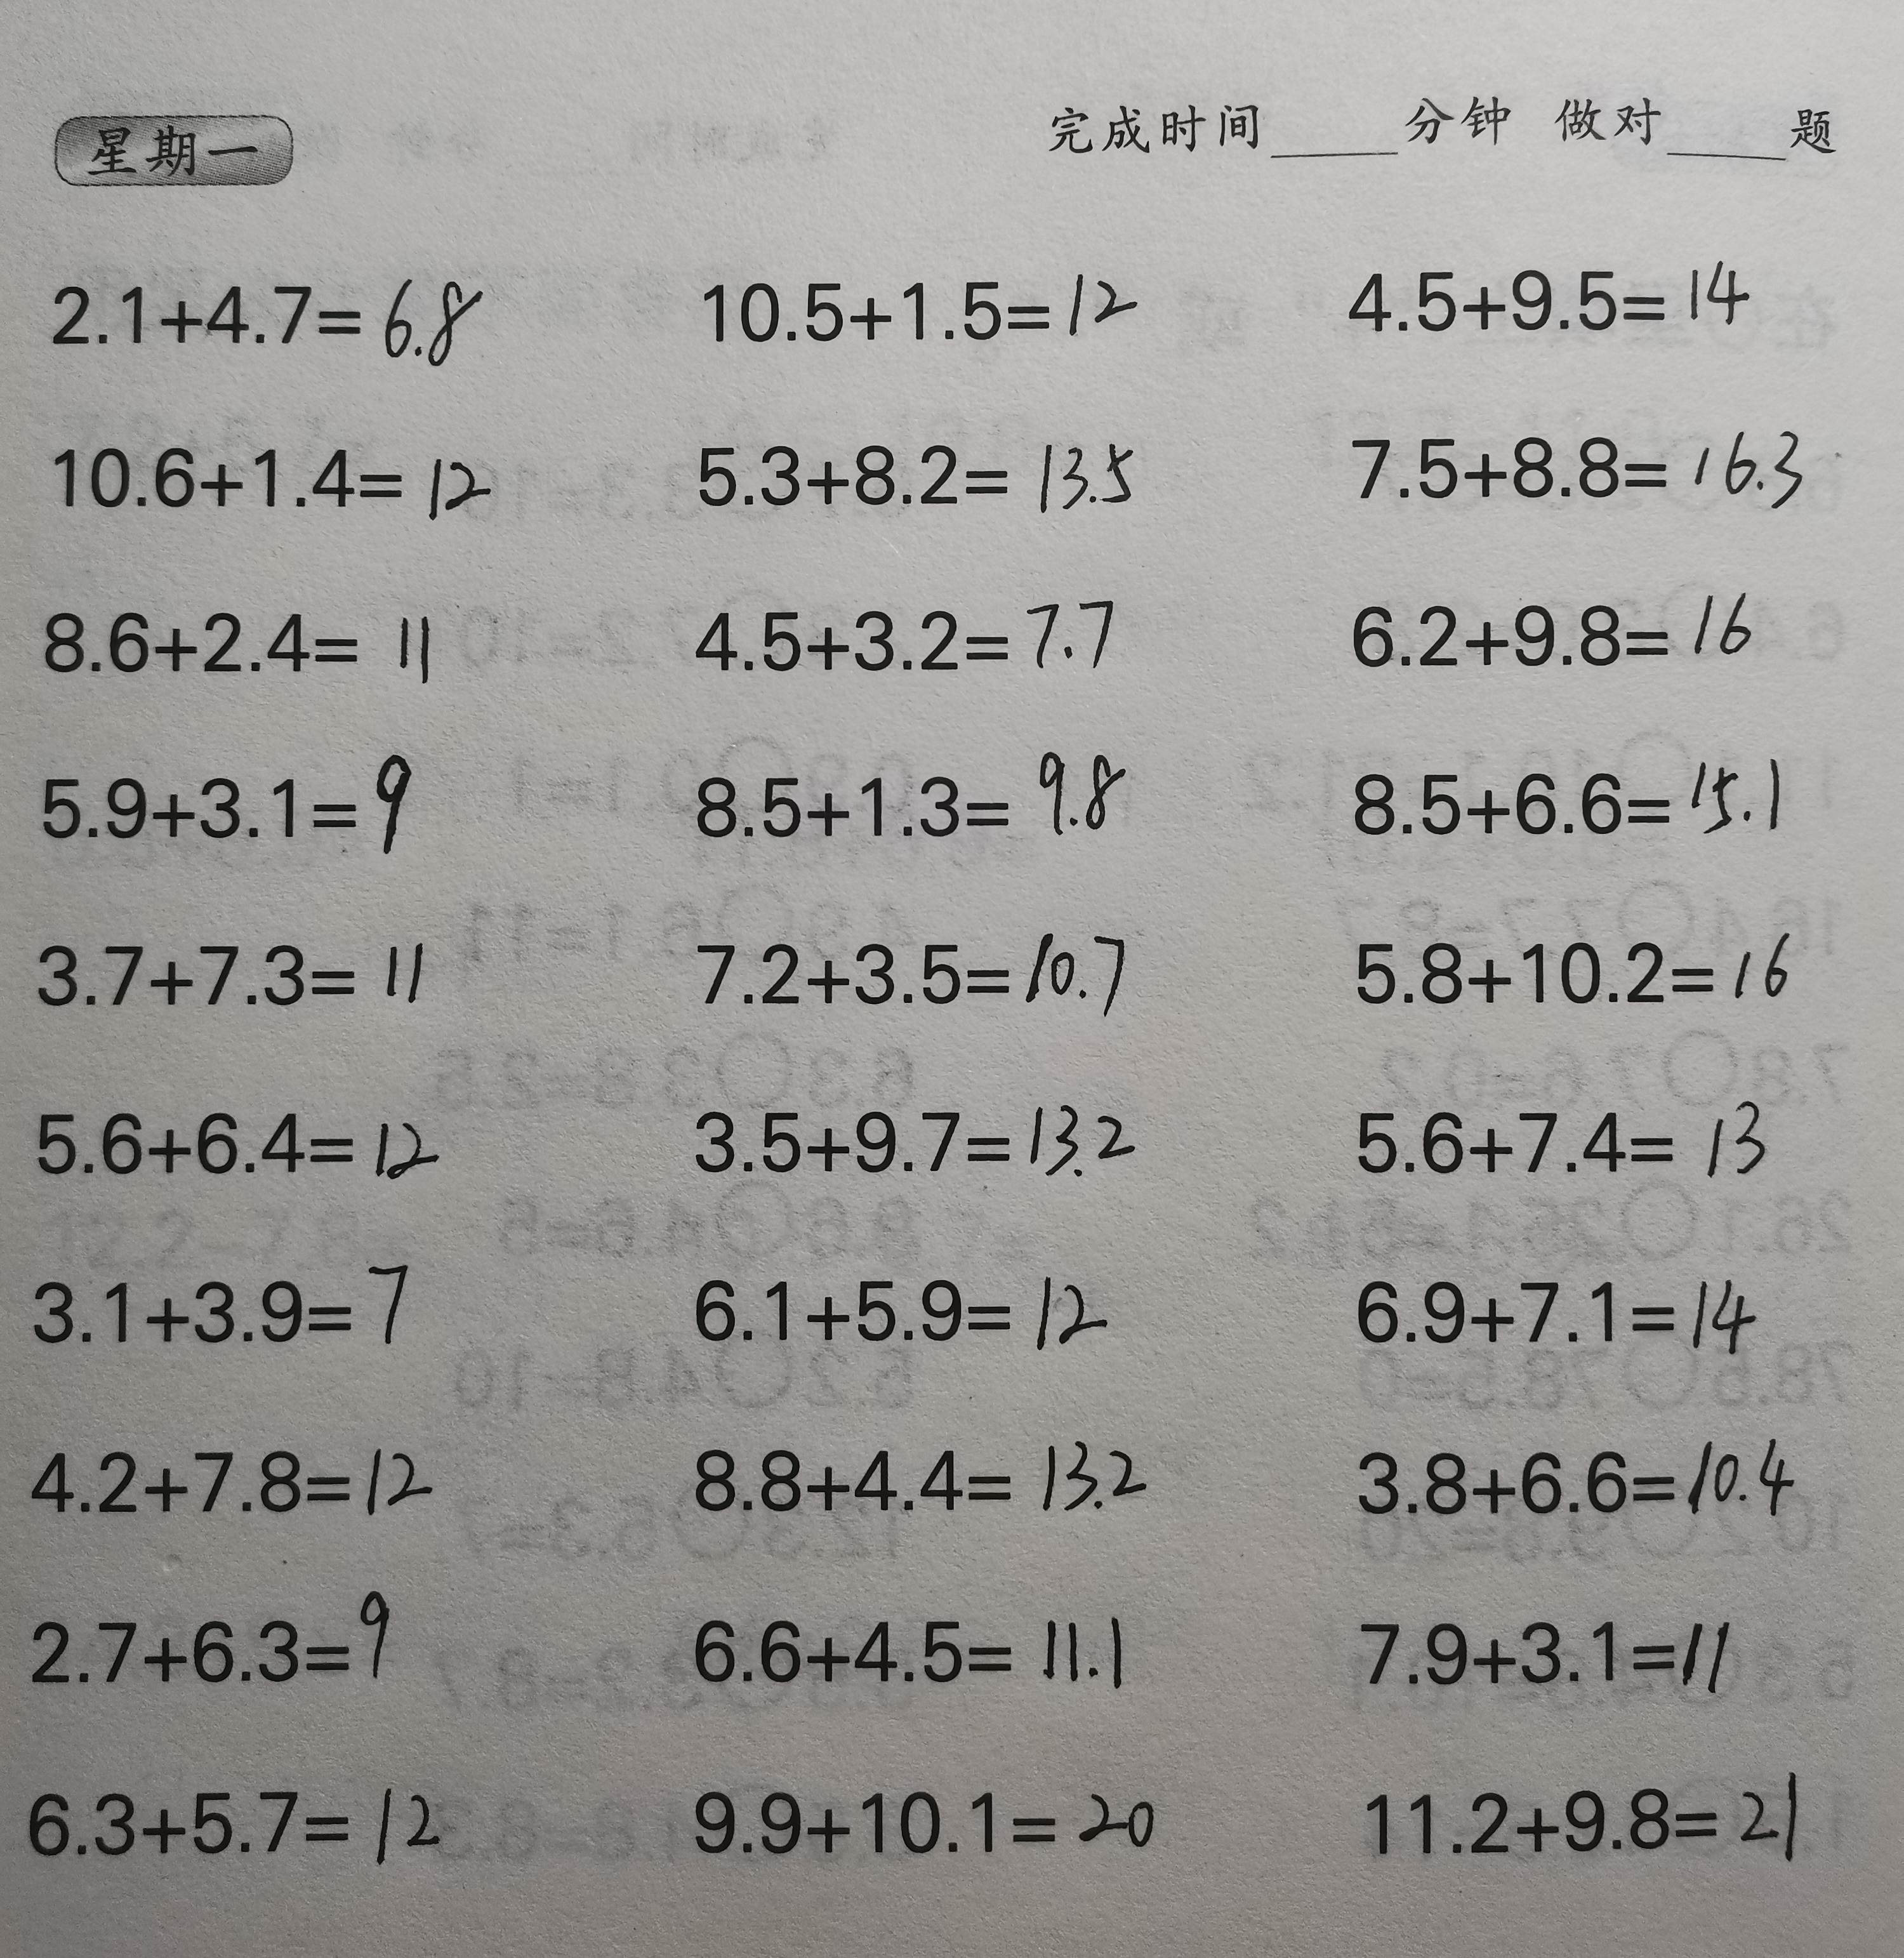equation: (1329, 895, 1815, 1030), (677, 1568, 1149, 1705), (1336, 386, 1817, 517), (685, 900, 1150, 1035), (671, 1748, 1189, 1869), (1341, 1755, 1832, 1881), (1334, 719, 1803, 848), (684, 397, 1150, 524), (1341, 1414, 1820, 1538), (682, 561, 1131, 692), (678, 726, 1143, 850), (687, 1238, 1138, 1365), (37, 250, 491, 376), (691, 234, 1164, 355), (1334, 1239, 1785, 1365), (1336, 1584, 1757, 1718), (1331, 1072, 1794, 1192), (680, 1411, 1164, 1523), (1334, 565, 1773, 687), (37, 418, 500, 533), (28, 731, 434, 862), (21, 1757, 458, 1876), (684, 1075, 1142, 1187), (1339, 233, 1782, 346), (24, 1239, 418, 1367), (21, 1573, 409, 1701), (17, 1414, 451, 1523), (21, 913, 449, 1021), (24, 1079, 460, 1184), (30, 586, 441, 685)
